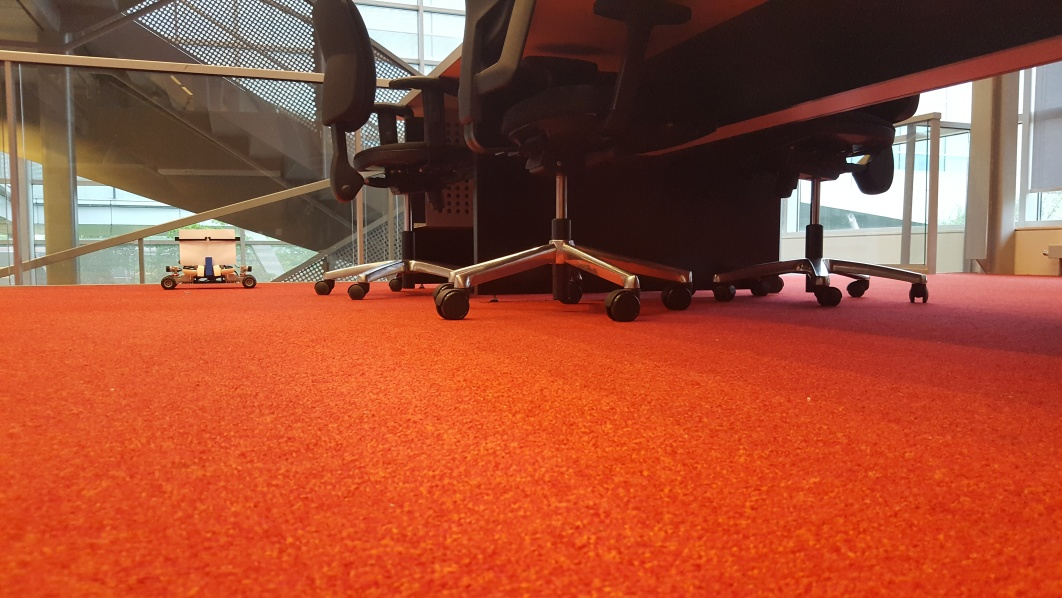car: (161, 228, 259, 293)
